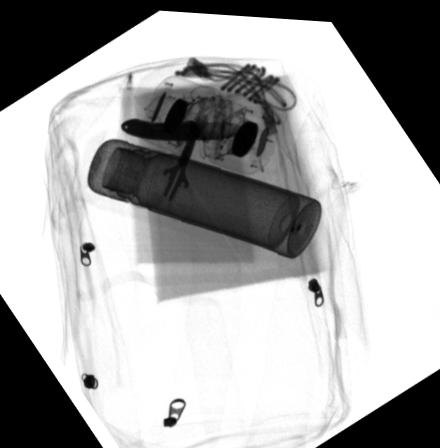Knife: (119, 114, 248, 139)
Scissors: (139, 112, 206, 219)
